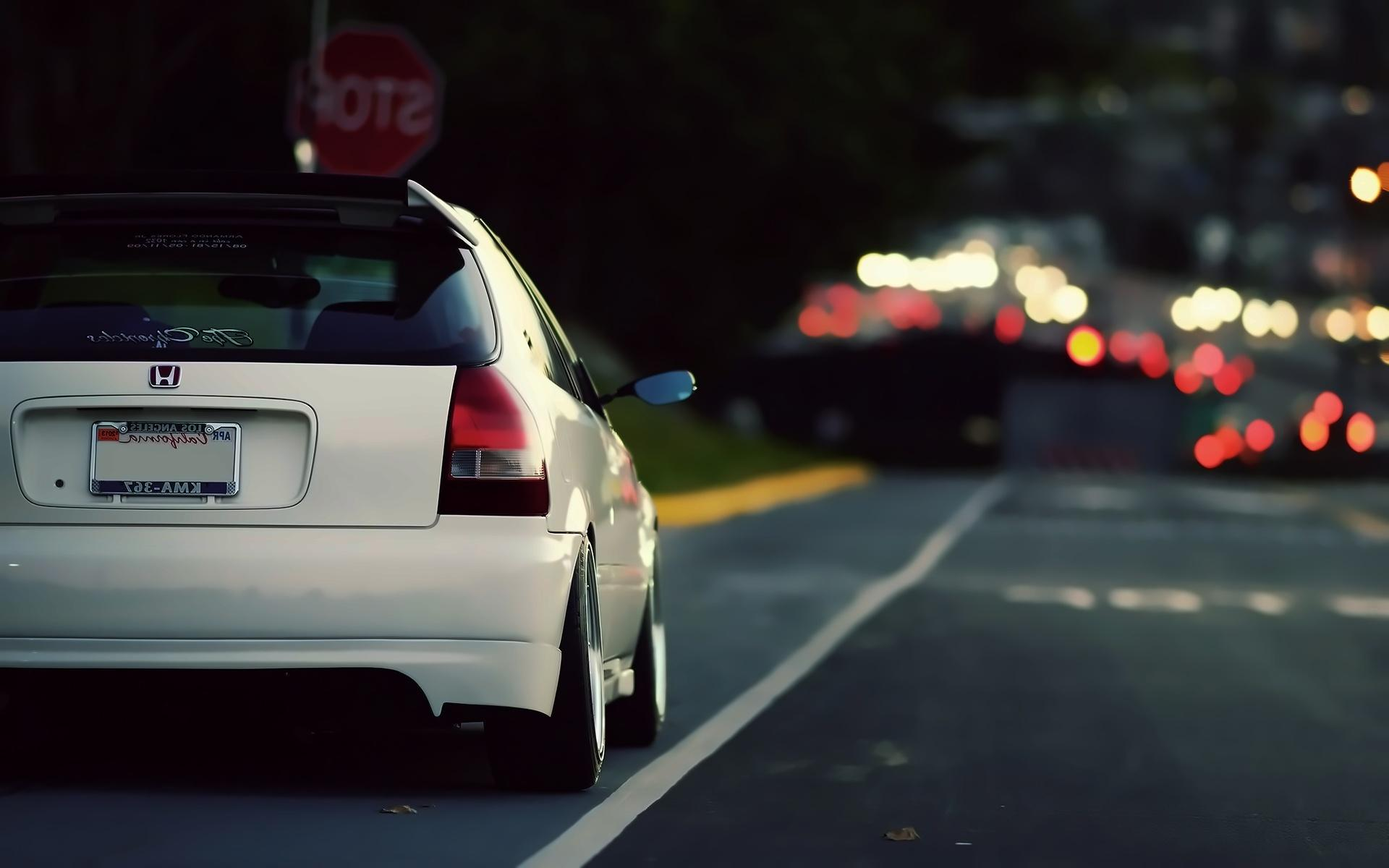Car boot: (0, 174, 516, 526)
Rear bumper: (0, 480, 584, 726)
Rear light - -R-: (437, 340, 553, 553)
Side bumper - -R-: (579, 644, 649, 715)
Side mirror - -R-: (589, 328, 717, 424)
